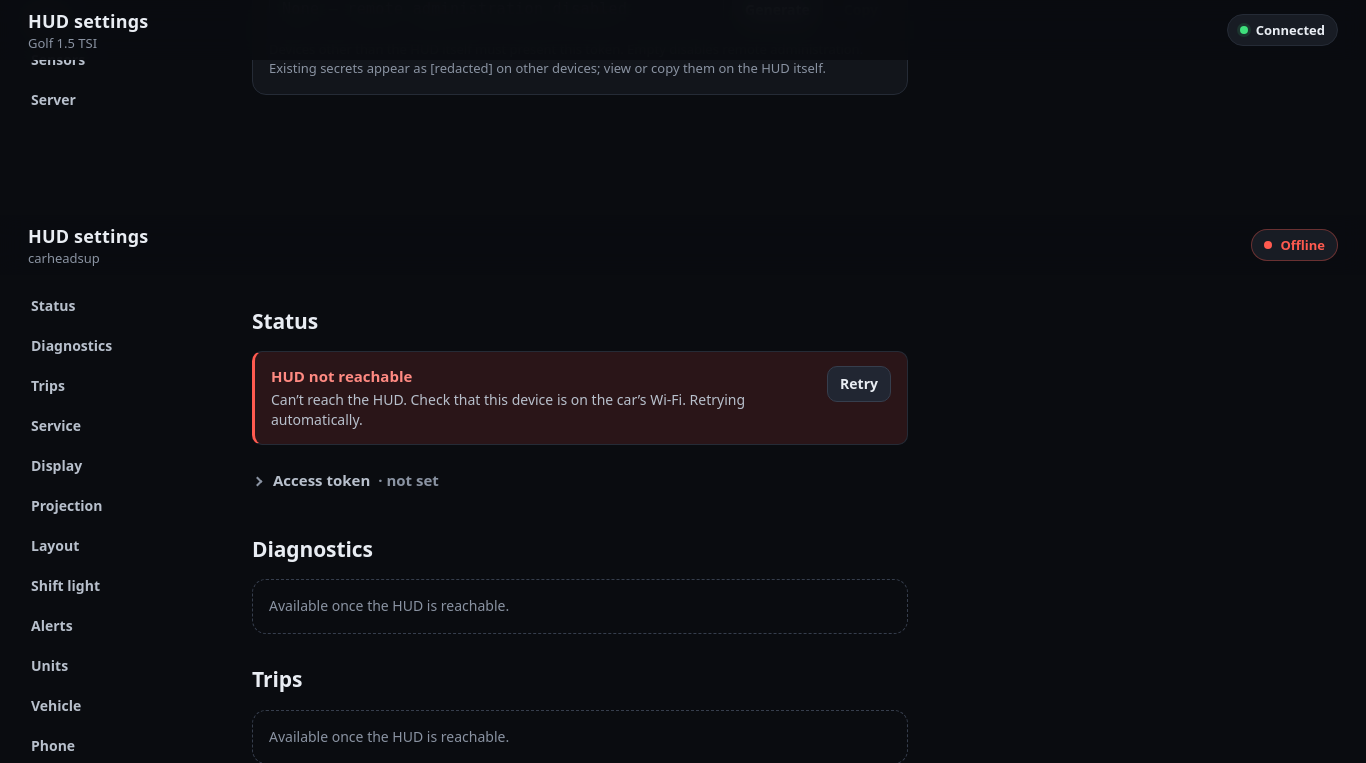
Test: settings app › shows a clear offline state and recovers when the HUD answers
Expected: the message "Offline" is shown, [1251,229,1338,261]
Click the button "Retry": (859, 384) [827,366,891,402]
(page scrolled)
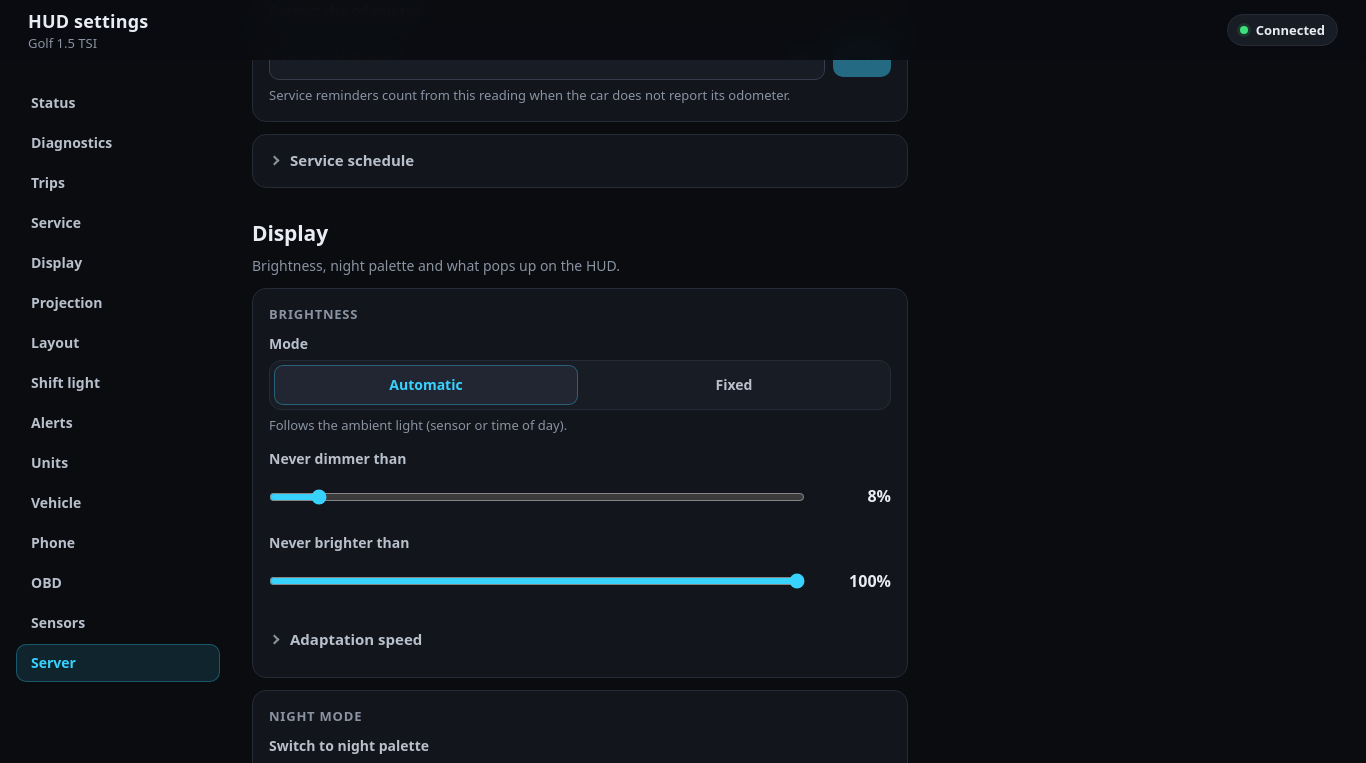
Expected: the element that starts with "Mode" is shown, [269,334,891,435]
Expected: the text with id "status" no longer shows "HUD not reachable"
